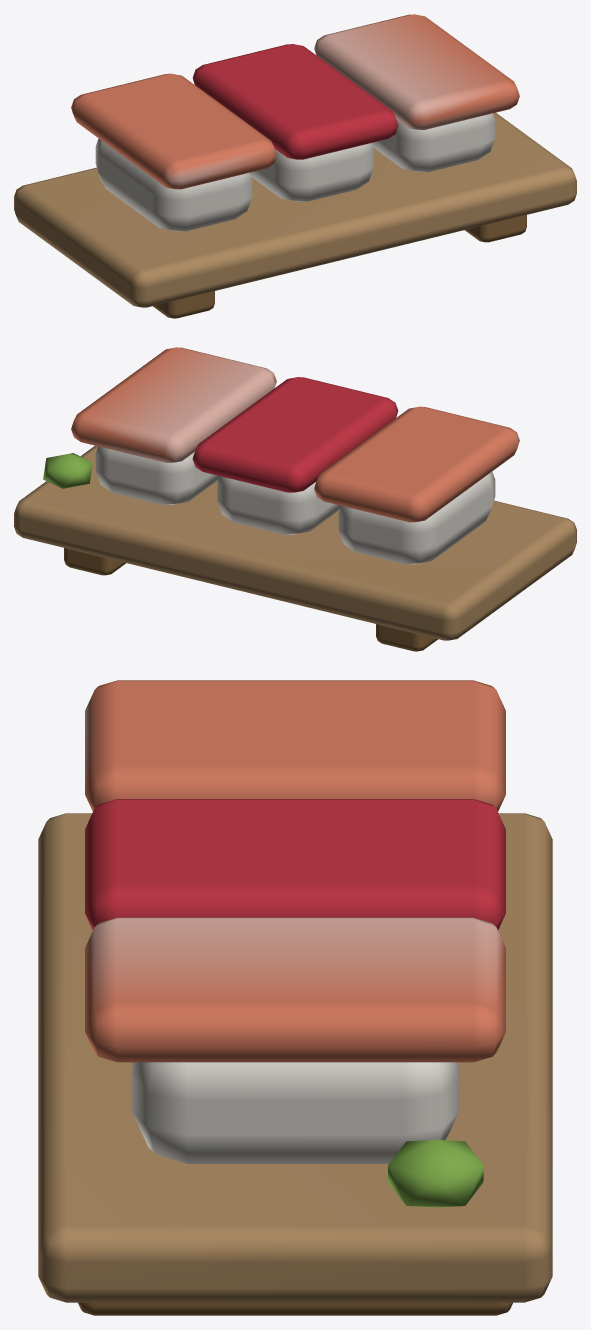
Rendered from item_dish_nigiri.glb.
3 views of the same model, one above another, from view 1: azimuth 30°, elevation 25°; view 2: azimuth 150°, elevation 25°; view 3: azimuth 270°, elevation 25° (orthographic). The views are drawn at different scales.
Parts seen in each view (by area): view 1: item_dish_nigiri_main; view 2: item_dish_nigiri_main; view 3: item_dish_nigiri_main.
Boxes of the visible parts, x1,y1,x2,y2 form: item_dish_nigiri_main: [14, 14, 576, 318]; item_dish_nigiri_main: [14, 347, 576, 651]; item_dish_nigiri_main: [38, 680, 552, 1315].
Size of the model in its own units: 0.22 by 0.072 by 0.11.
